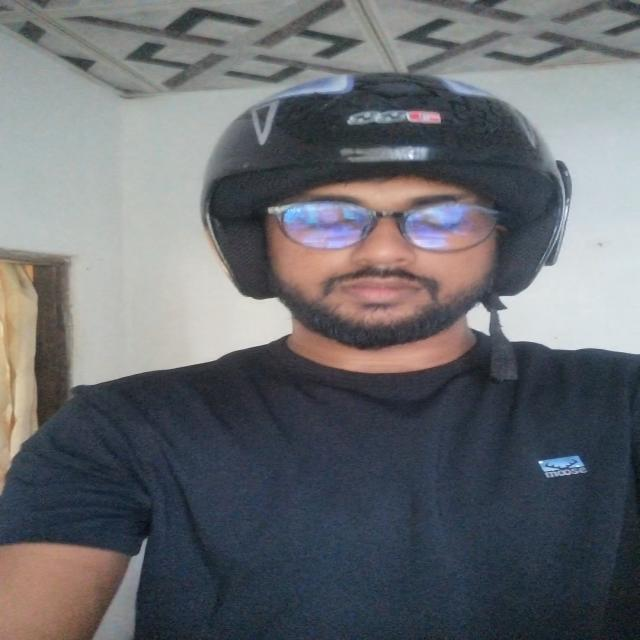Helmet_Wearer: (203, 56, 594, 362)
Person: (32, 82, 640, 639)
